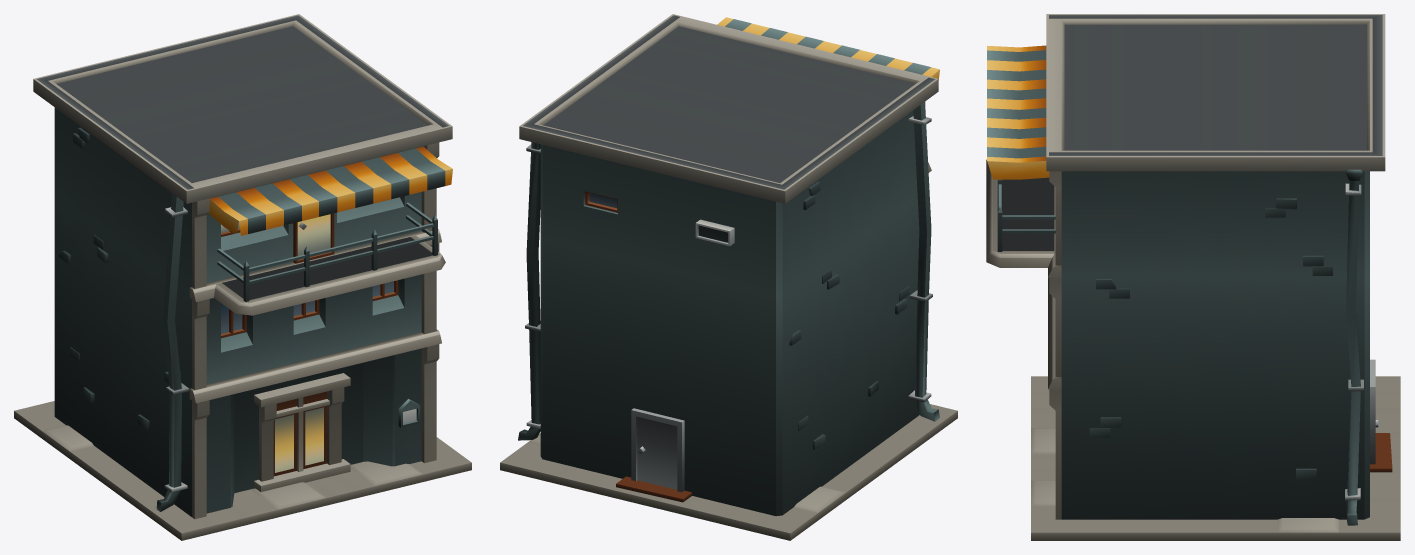
The model's file is Building_9B.fbx.
3 views of the same model, side by side, from view 1: azimuth 30°, elevation 25°; view 2: azimuth 150°, elevation 25°; view 3: azimuth 270°, elevation 25° (orthographic). The views are drawn at different scales.
Parts seen in each view (by area): view 1: Building_9B, Shed_9B, Window_Lights_9B; view 2: Building_9B, Shed_9B; view 3: Building_9B, Shed_9B.
Part boxes in pixels (box(x1,y1,x2,y2)): Building_9B: box(14, 14, 471, 540); Shed_9B: box(209, 146, 452, 235); Window_Lights_9B: box(221, 214, 330, 472); Building_9B: box(500, 14, 957, 540); Shed_9B: box(717, 17, 939, 79); Building_9B: box(986, 14, 1400, 540); Shed_9B: box(987, 45, 1049, 179).
Bounding box in the file's own units: 12.14 × 13.5 × 13.45.
